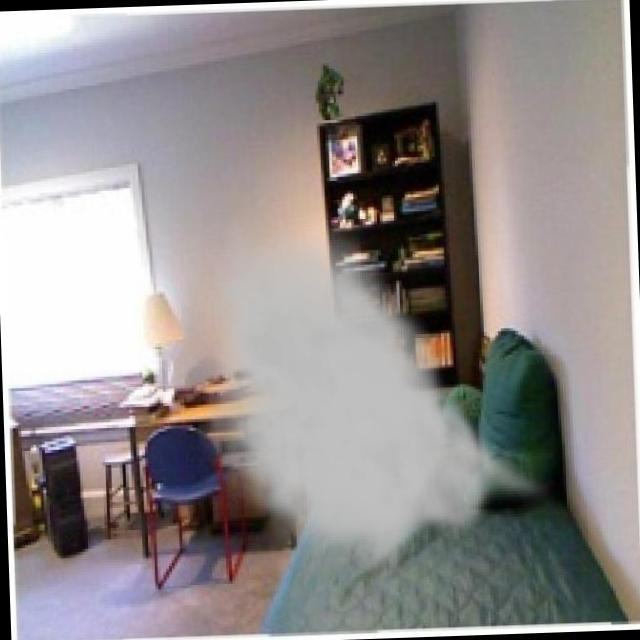Smoke: (191, 200, 561, 587)
